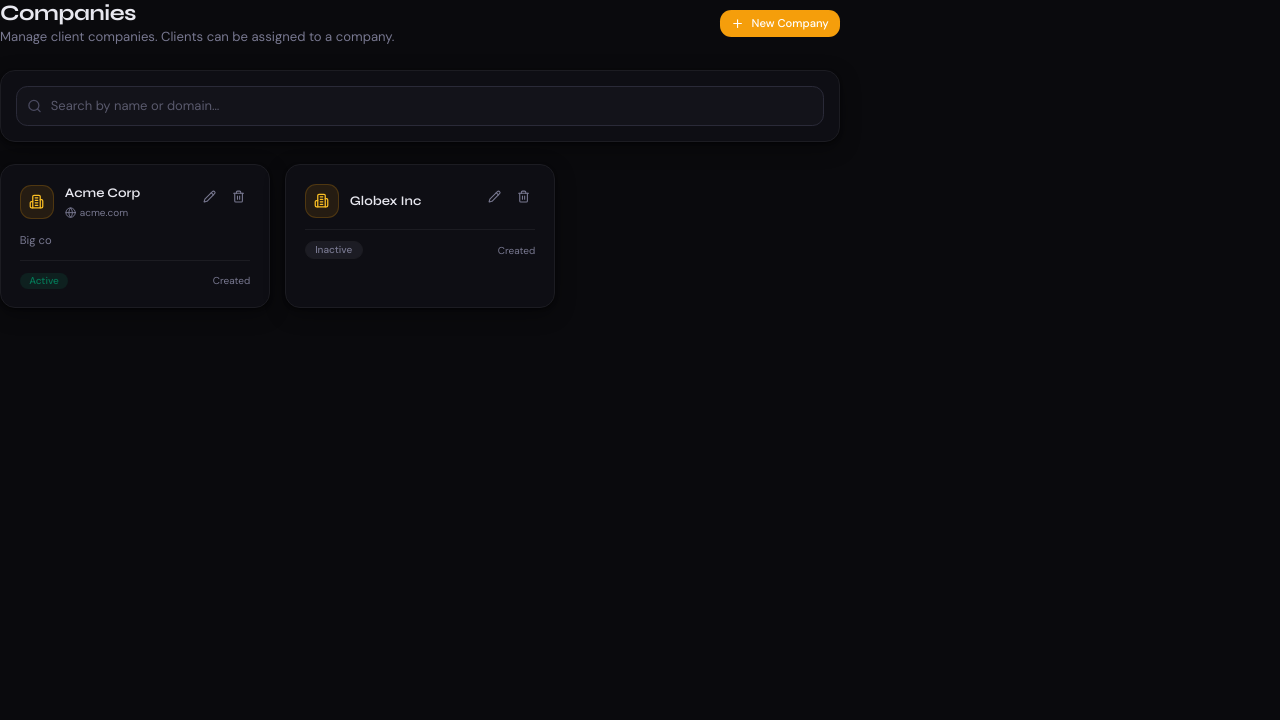
Scenario: CompaniesPage — edit modal › opens Edit Company modal
Click the button titled "Edit" next to "Acme Corp" at (210,196), box top-left (198, 184), bottom-right (222, 208)
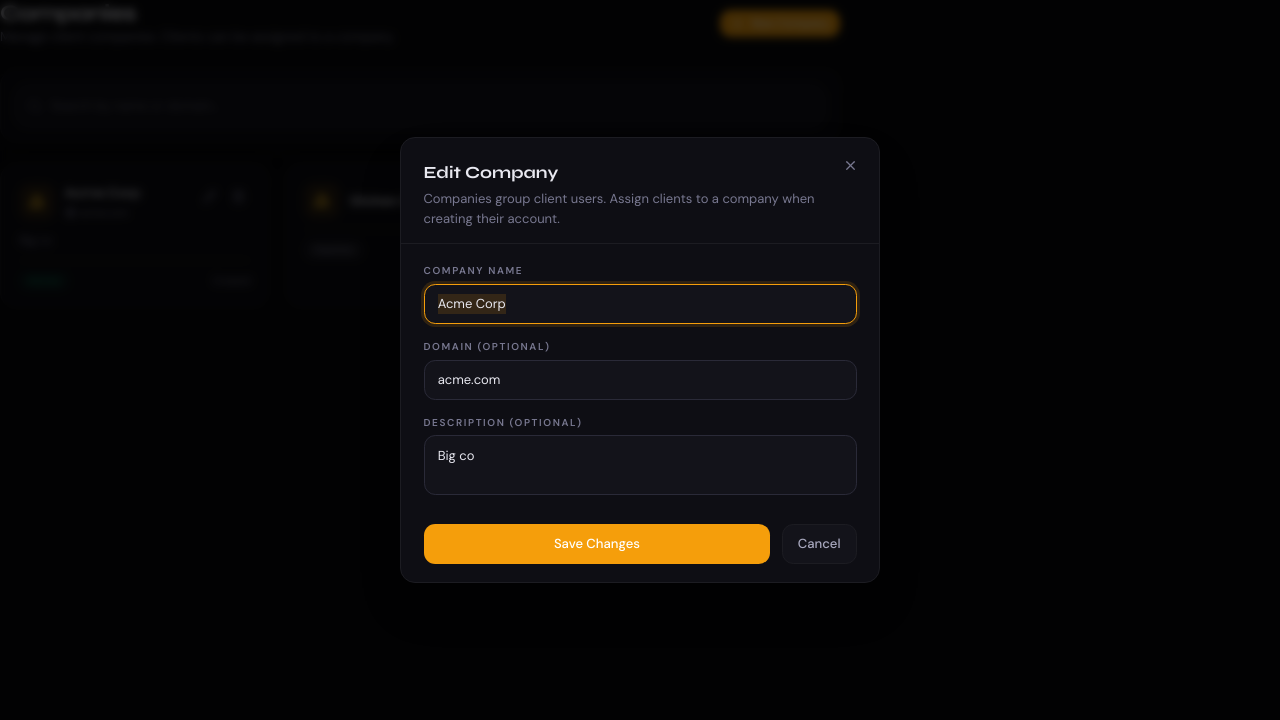
Result: the heading "Edit Company" is shown at top-left (424, 162), bottom-right (558, 183)
